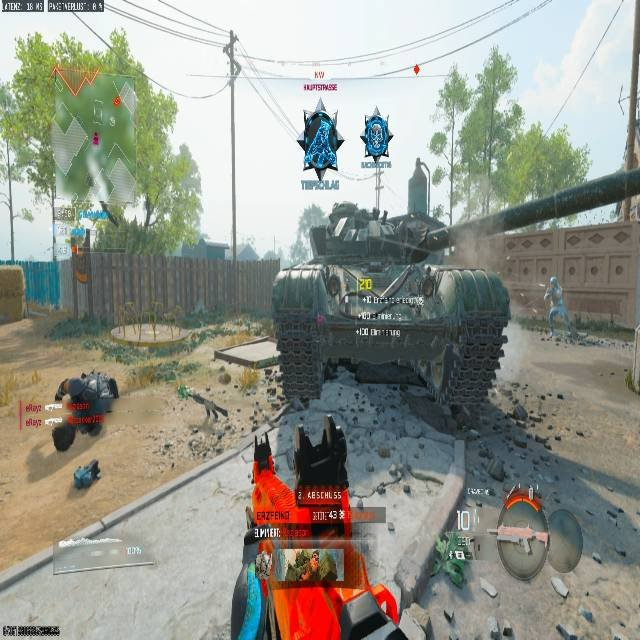head: (49, 419, 85, 453)
player: (300, 109, 343, 184), (361, 110, 391, 166)
